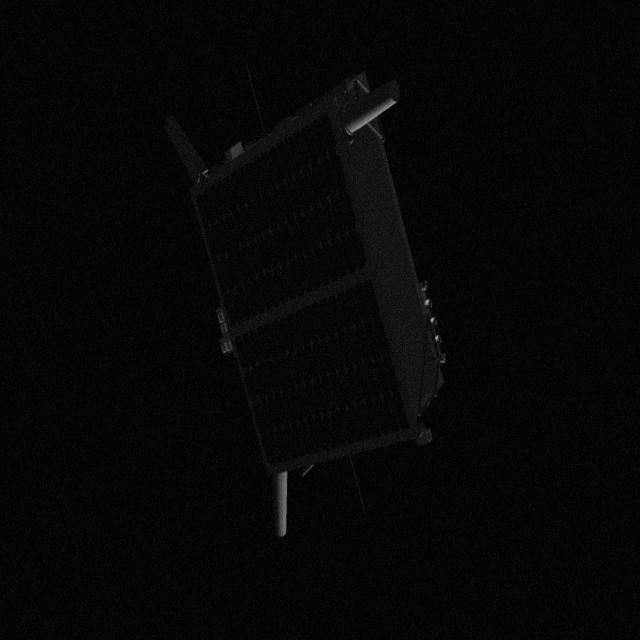satellite: (158, 68, 464, 546)
